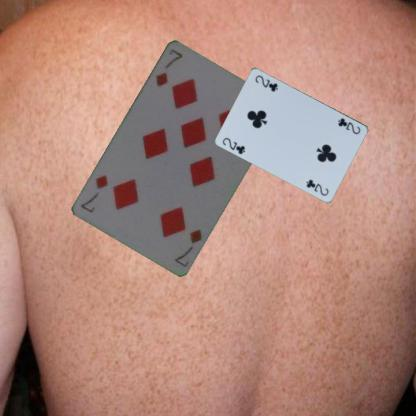2c: (220, 134, 247, 156), (336, 115, 362, 135)
7d: (172, 224, 204, 268), (153, 46, 184, 87)
